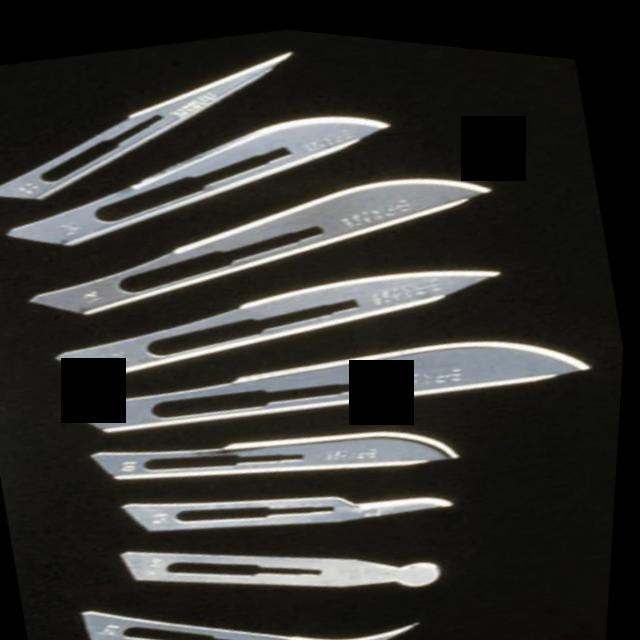Surgical blade: (11, 112, 518, 366), (61, 270, 600, 486), (52, 210, 530, 422), (0, 57, 411, 287), (0, 6, 333, 239), (90, 364, 473, 518), (104, 426, 469, 580), (72, 522, 451, 640)
